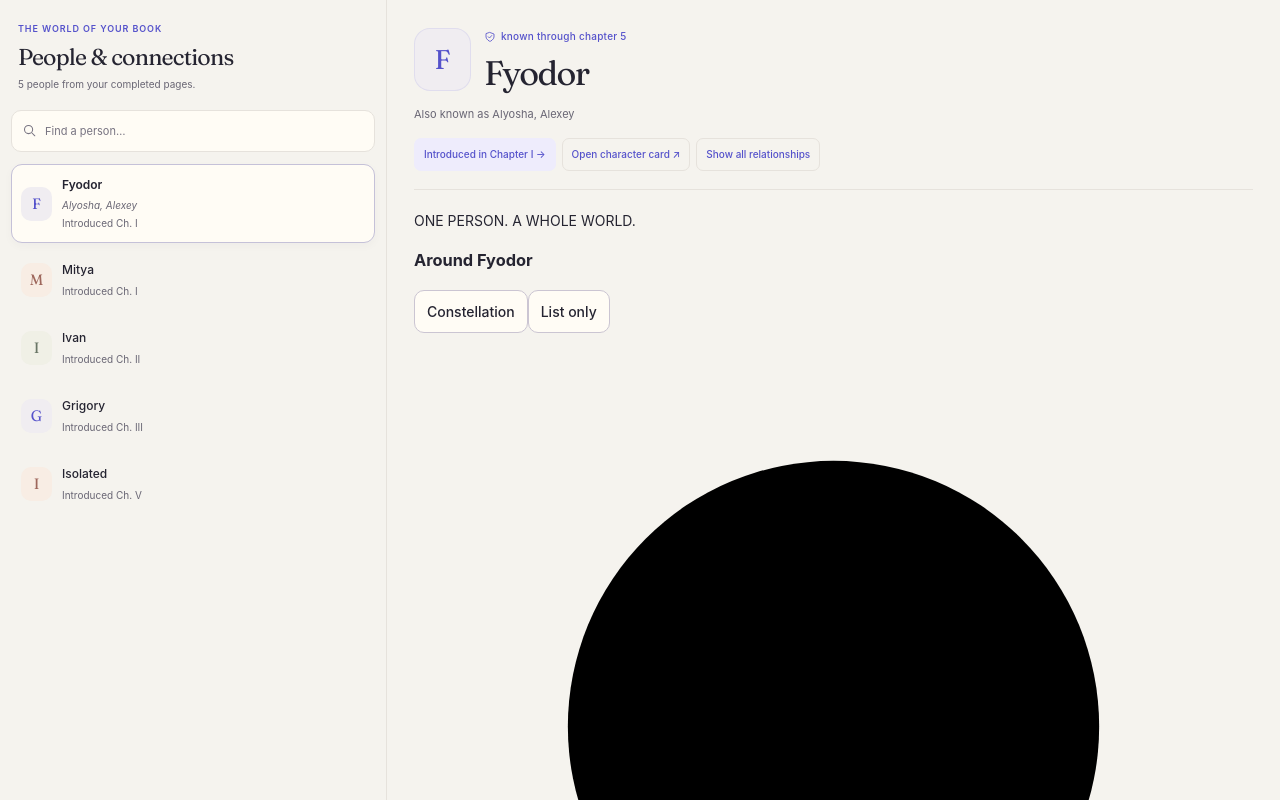
Test case: PeopleConnections › searches aliases, displays them, and announces an empty result
The width and height of the screenshot is (1280, 800).
Check: the text "Also known as Alyosha, Alexey" is shown, box [414,107,574,121]
Type "alyosha" into the search field labelled "Find a person…" at [193, 131], box [11,110,375,152]
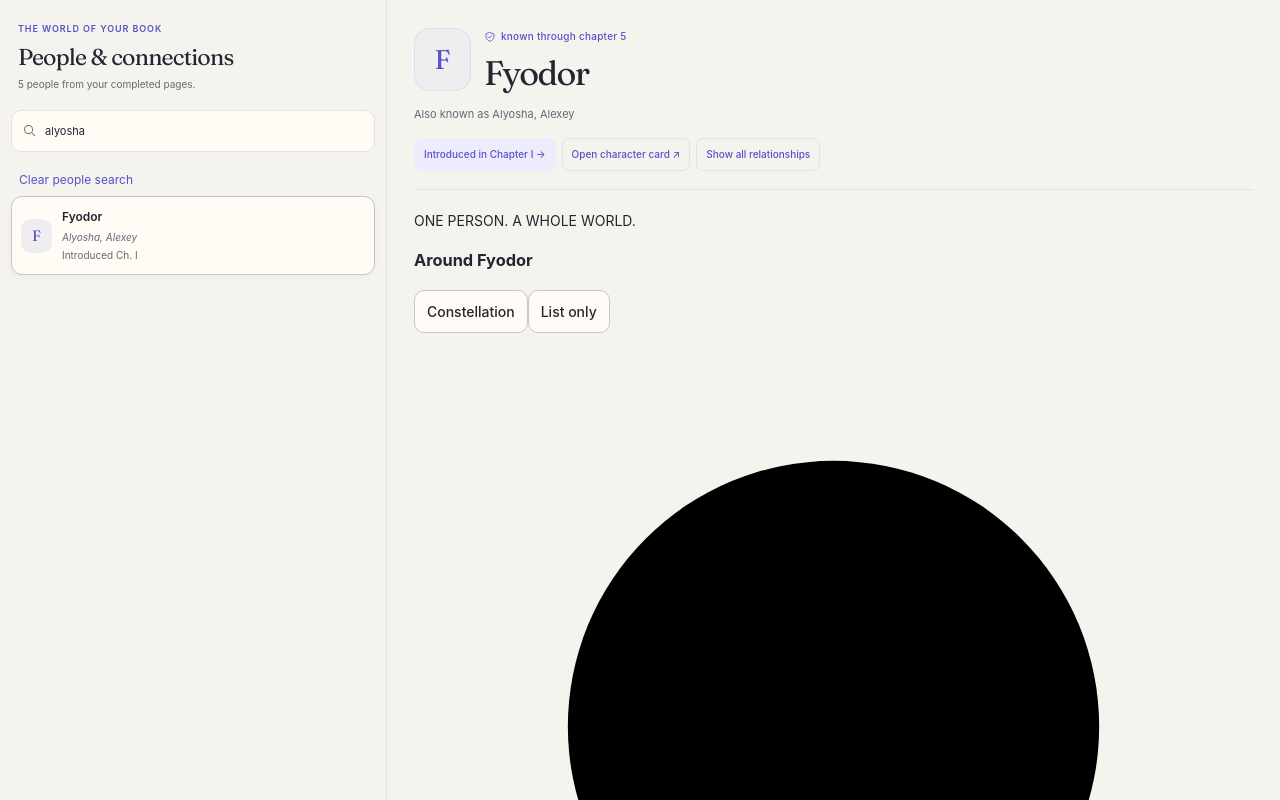
Check: the button "F Fyodor Alyosha, Alexey Introduced Ch. I" is shown, box [11,196,375,276]
Replace the text in the search field named "Find a person" with "nobody here" at [193, 131], box [11,110,375,152]
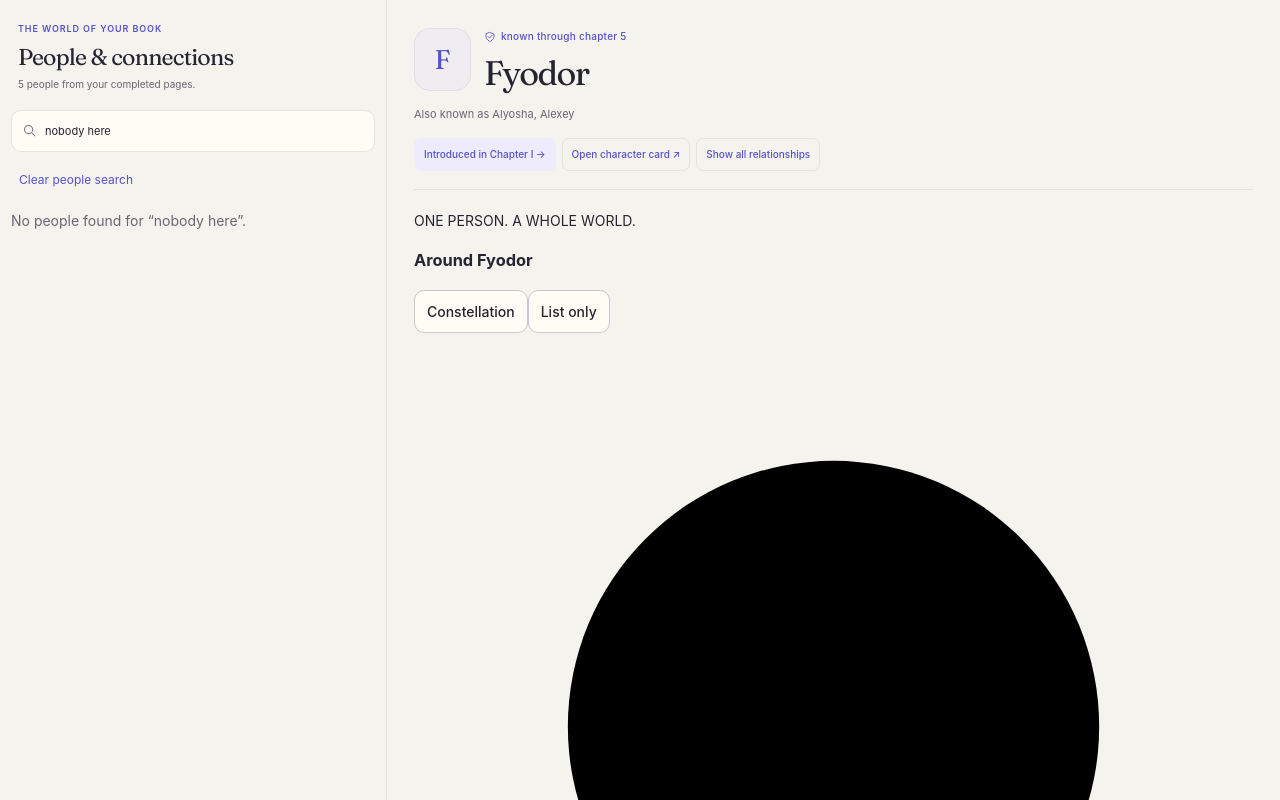
Check: the message shows "No people found", box [11,212,154,229]
